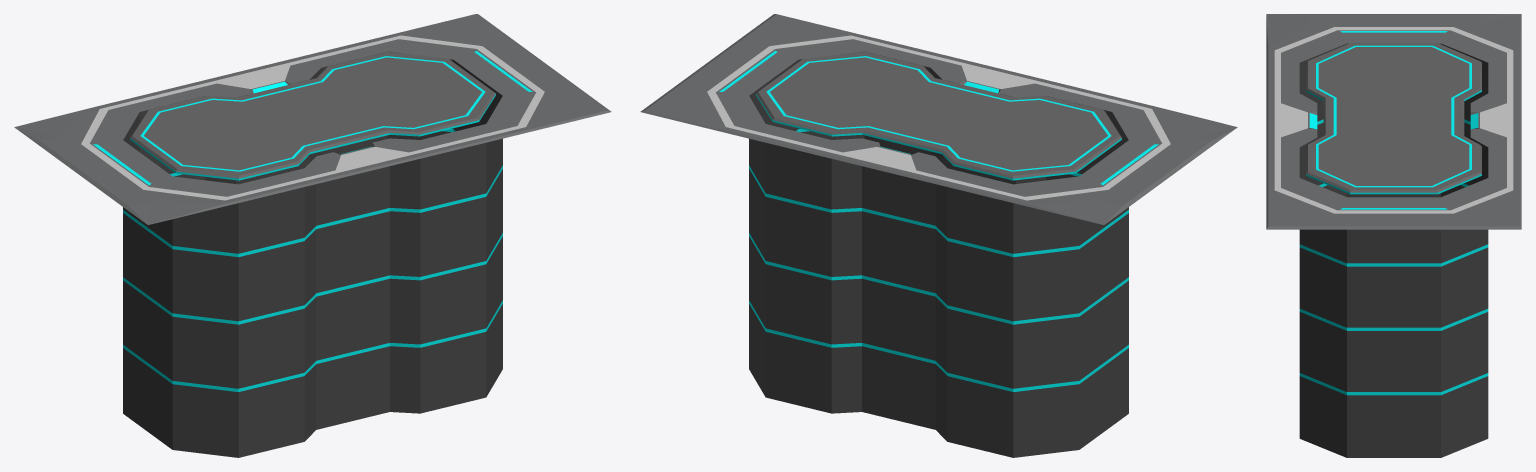
File: Plaza_Lift.fbx
3 views of the same model, side by side, from view 1: azimuth 30°, elevation 25°; view 2: azimuth 150°, elevation 25°; view 3: azimuth 270°, elevation 25° (orthographic). The views are drawn at different scales.
Visible parts, largest first — view 1: Plaza_Lift; view 2: Plaza_Lift; view 3: Plaza_Lift.
Part boxes in pixels (box(x1,y1,x2,y2)): Plaza_Lift: box(14, 14, 611, 457); Plaza_Lift: box(640, 14, 1237, 457); Plaza_Lift: box(1266, 14, 1521, 457).
Bounding box in the file's own units: 24 × 13.73 × 12.
